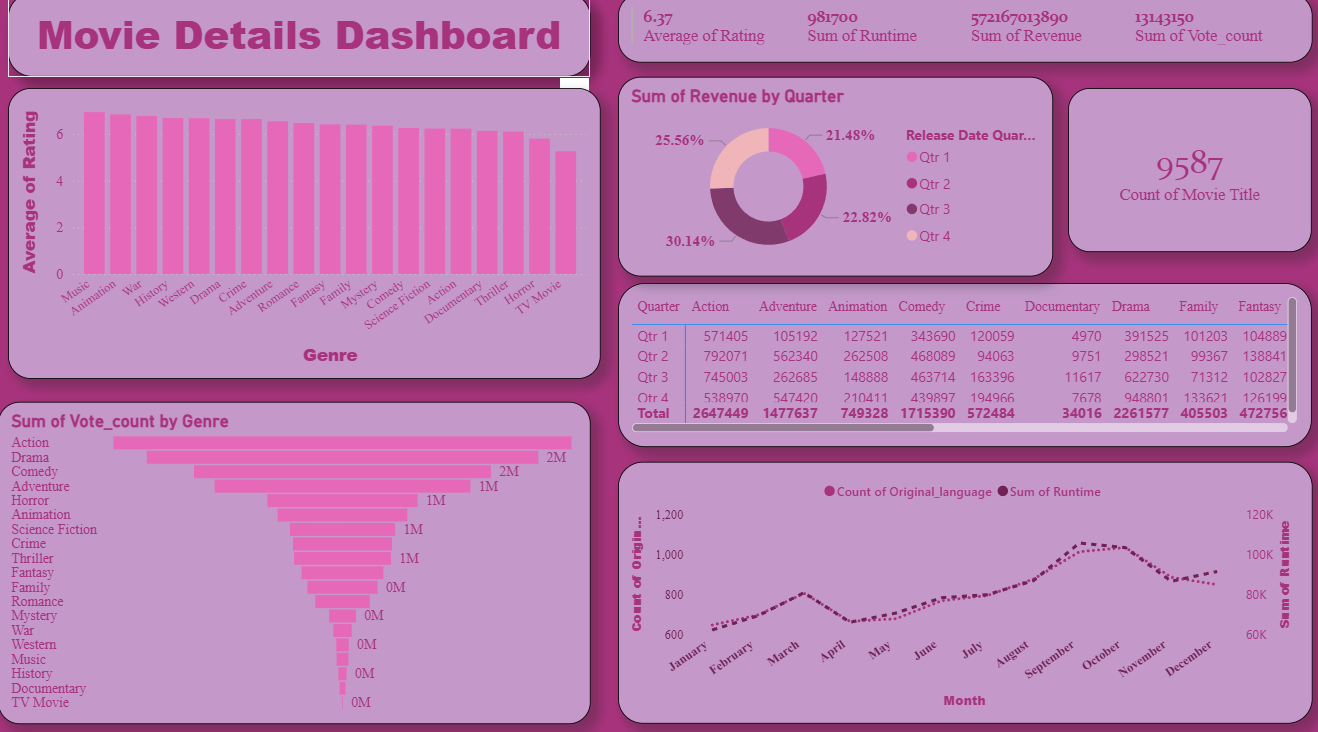

The page's visual inventory and layout, read from the dashboard file:
{"tool":"powerbi","page":{"name":"Page 2","canvas":[1280,720],"ordinal":1},"visuals":[{"type":"textbox","box":[9.7,0,562.2,80.8],"z":0},{"type":"multiRowCard","fields":{"Values":["Avg(Movie_Details.Rating)","Sum(Movie_Details.Runtime)","Sum(Movie_Details.Revenue)","Sum(Movie_Details.Vote_count)"]},"box":[598.6,0,670,67.1],"z":1000},{"type":"columnChart","fields":{"Category":["Movie_Details.Genre"],"Y":["Avg(Movie_Details.Rating)"]},"box":[9.7,91.7,571.9,281.1],"z":2000},{"type":"funnel","fields":{"Category":["Movie_Details.Genre"],"Y":["Sum(Movie_Details.Vote_count)"]},"box":[0,394.5,571.9,311.3],"z":3000},{"type":"pivotTable","fields":{"Rows":["Movie_Details.Release Date.Variation.Date Hierarchy.Quarter"],"Values":["Sum(Movie_Details.Vote_count)"],"Columns":["Movie_Details.Genre"]},"box":[598.4,279.9,669.6,158],"z":4000},{"type":"lineChart","fields":{"Y":["CountNonNull(Movie_Details.Original_language)"],"Y2":["Sum(Movie_Details.Runtime)"],"Category":["Movie_Details.Release Date.Variation.Date Hierarchy.Month"]},"box":[598.6,452.9,670,252.9],"z":5000},{"type":"donutChart","fields":{"Category":["Movie_Details.Release Date.Variation.Date Hierarchy.Quarter"],"Y":["Sum(Movie_Details.Revenue)"]},"box":[598.4,80.8,419.8,193],"z":6000},{"type":"card","fields":{"Values":["Count(Movie_Details.Movie Title)"]},"box":[1032.7,91.7,235.3,158],"z":7000}]}

Visuals, with their boxes in screenshot pixels (x1, y1, x2, y2), scaled from the page's 1280x720 canvas onto the 1318x732 screenshot:
textbox: x1=10 y1=0 x2=589 y2=82
multiRowCard - Avg(Movie_Details.Rating) x Sum(Movie_Details.Runtime): x1=616 y1=0 x2=1306 y2=68
columnChart - Movie_Details.Genre x Avg(Movie_Details.Rating): x1=10 y1=93 x2=599 y2=379
funnel - Movie_Details.Genre x Sum(Movie_Details.Vote_count): x1=0 y1=401 x2=589 y2=718
pivotTable - Movie_Details.Release Date.Variation.Date Hierarchy.Quarter x Sum(Movie_Details.Vote_count): x1=616 y1=285 x2=1306 y2=445
lineChart - CountNonNull(Movie_Details.Original_language) x Sum(Movie_Details.Runtime): x1=616 y1=460 x2=1306 y2=718
donutChart - Movie_Details.Release Date.Variation.Date Hierarchy.Quarter x Sum(Movie_Details.Revenue): x1=616 y1=82 x2=1048 y2=278
card - Count(Movie_Details.Movie Title): x1=1063 y1=93 x2=1306 y2=254
